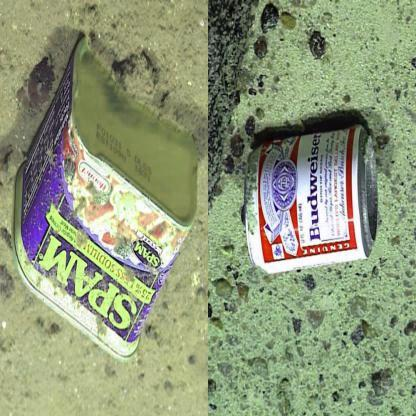Metal: (8, 35, 200, 366), (243, 114, 381, 276)
